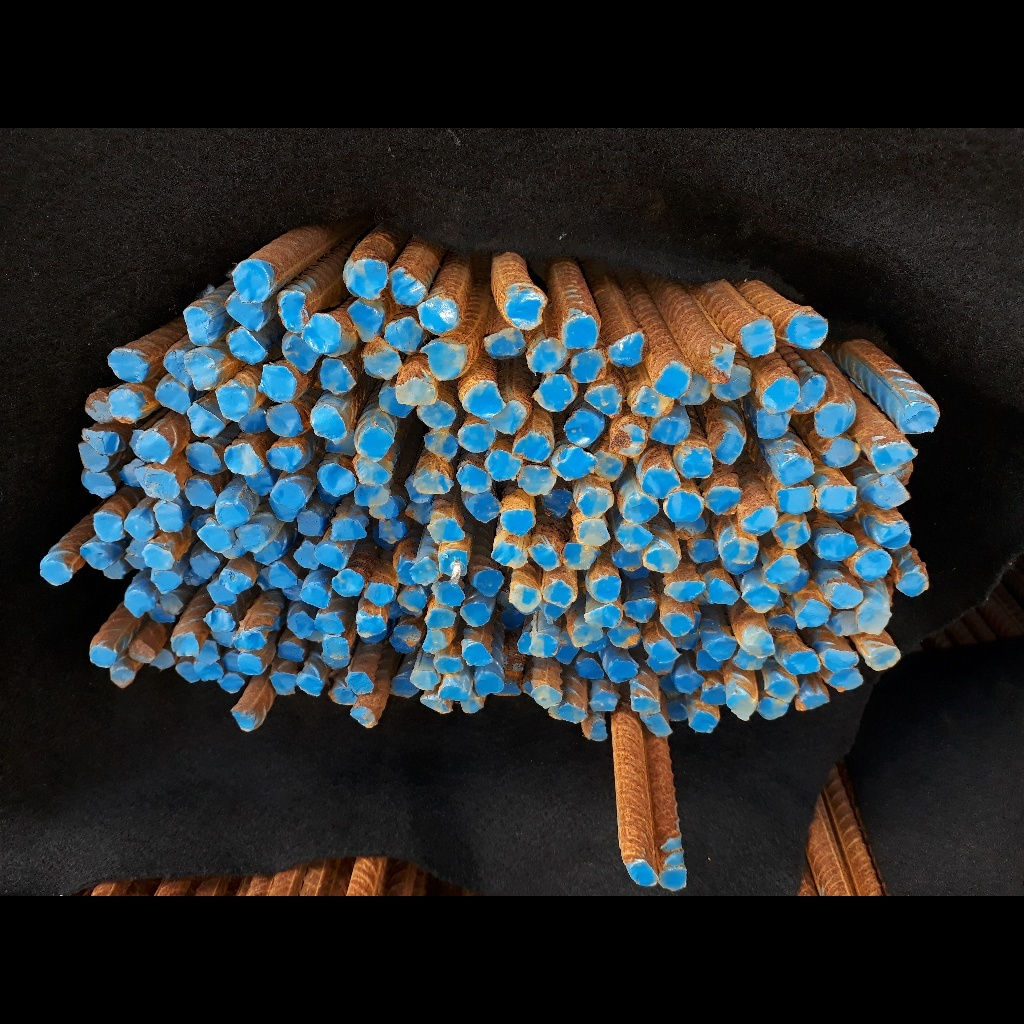dipstick: (425, 339, 464, 379), (135, 467, 179, 502), (348, 260, 387, 298), (788, 313, 828, 349), (107, 347, 147, 382), (759, 375, 796, 412), (873, 442, 915, 474), (715, 366, 752, 402), (306, 313, 339, 353), (534, 376, 574, 409), (227, 329, 267, 362), (742, 319, 777, 356), (186, 352, 220, 390), (234, 261, 267, 300), (224, 442, 263, 475), (419, 298, 456, 332), (509, 292, 543, 328), (188, 404, 224, 438), (312, 406, 346, 442), (874, 474, 910, 508), (676, 444, 713, 477), (348, 303, 380, 341), (712, 425, 742, 465), (572, 350, 607, 384), (184, 307, 216, 344), (665, 492, 704, 522), (529, 340, 564, 373), (774, 515, 809, 548), (385, 317, 421, 349), (855, 550, 891, 582), (396, 377, 434, 407), (261, 367, 294, 401), (320, 465, 356, 496), (899, 404, 937, 433), (484, 329, 523, 357), (656, 364, 690, 396), (567, 412, 601, 444), (563, 317, 598, 348), (520, 465, 555, 496), (465, 383, 501, 413), (185, 444, 221, 474), (556, 449, 593, 478), (705, 486, 742, 515), (320, 360, 353, 392), (284, 338, 318, 369), (587, 385, 622, 415), (817, 407, 852, 437), (824, 439, 860, 468), (777, 485, 814, 513), (265, 446, 306, 471), (269, 404, 302, 435), (360, 428, 394, 458), (139, 430, 168, 465), (644, 468, 680, 496), (458, 424, 495, 451), (615, 523, 652, 550), (78, 472, 116, 498), (780, 458, 814, 487), (220, 384, 247, 420), (578, 491, 614, 518), (280, 290, 303, 332), (419, 403, 456, 429), (109, 390, 140, 421), (367, 345, 398, 376), (391, 273, 423, 303), (613, 423, 645, 453), (184, 479, 216, 509), (742, 507, 775, 536), (818, 486, 856, 511), (516, 435, 551, 462), (155, 383, 187, 412), (627, 495, 659, 524), (356, 459, 393, 484), (83, 428, 120, 453), (625, 859, 658, 887), (228, 300, 262, 327), (323, 636, 350, 670), (859, 608, 893, 635), (460, 465, 491, 494), (584, 604, 623, 627), (706, 577, 738, 605), (216, 498, 249, 525), (766, 556, 799, 583), (800, 376, 824, 413), (817, 535, 854, 559), (467, 495, 501, 521), (502, 510, 536, 536), (564, 544, 599, 569), (153, 501, 182, 531), (93, 513, 123, 542), (426, 432, 457, 460), (610, 336, 642, 363), (743, 585, 775, 612), (589, 576, 622, 602), (634, 391, 668, 416), (273, 484, 298, 518), (84, 389, 108, 424), (487, 450, 517, 478), (644, 549, 679, 573), (415, 471, 453, 493), (198, 525, 230, 551), (39, 560, 71, 586), (652, 419, 688, 442), (499, 404, 524, 437), (315, 546, 348, 571), (757, 413, 790, 438), (492, 543, 526, 567), (828, 583, 862, 607), (666, 581, 703, 603), (78, 445, 107, 473), (511, 586, 541, 613), (545, 489, 572, 519), (529, 545, 560, 571), (624, 597, 655, 623), (331, 571, 363, 596), (658, 868, 690, 893), (709, 348, 733, 381), (165, 352, 189, 385), (722, 538, 756, 561), (413, 555, 439, 585), (474, 571, 505, 596), (579, 520, 610, 545), (661, 612, 692, 637), (542, 581, 577, 603), (827, 670, 862, 692), (797, 603, 829, 627), (439, 550, 467, 577), (897, 572, 927, 597), (871, 646, 901, 671), (81, 544, 112, 568), (355, 612, 386, 636), (879, 524, 910, 548), (820, 650, 859, 669), (302, 584, 328, 612), (431, 519, 464, 541), (330, 520, 366, 540), (237, 629, 268, 652), (433, 582, 464, 605), (787, 652, 818, 675), (607, 660, 639, 682), (748, 631, 774, 658), (355, 485, 390, 505), (398, 587, 427, 611), (609, 624, 639, 647), (757, 697, 788, 719), (146, 544, 173, 569), (288, 612, 313, 639), (465, 641, 492, 666), (270, 563, 298, 587), (365, 583, 393, 607), (641, 714, 673, 735), (728, 695, 756, 719), (190, 553, 219, 576), (238, 527, 267, 550), (690, 540, 719, 563), (315, 612, 345, 634), (595, 454, 622, 478), (294, 543, 317, 571), (530, 635, 558, 658), (652, 638, 680, 661), (765, 681, 797, 701), (222, 569, 251, 591), (576, 659, 605, 681), (689, 712, 719, 733), (683, 383, 709, 407), (124, 591, 151, 614), (171, 633, 198, 656), (612, 551, 643, 571), (208, 584, 236, 606), (206, 610, 234, 632), (461, 604, 489, 626), (705, 638, 734, 659), (831, 611, 856, 635), (126, 540, 144, 573), (278, 641, 305, 663), (423, 631, 450, 653), (797, 693, 830, 711), (768, 615, 795, 637), (378, 386, 397, 417), (630, 695, 661, 714), (152, 570, 180, 591), (533, 686, 561, 707), (89, 645, 114, 668), (124, 517, 150, 539), (476, 673, 503, 694), (591, 690, 618, 711), (677, 672, 704, 693), (130, 640, 154, 663), (231, 710, 255, 733), (272, 673, 296, 696), (426, 610, 455, 629), (242, 414, 267, 436), (297, 674, 322, 696), (245, 475, 272, 495), (393, 624, 420, 644), (434, 656, 463, 674), (412, 671, 438, 691), (120, 459, 139, 486), (347, 674, 374, 693), (572, 627, 602, 644), (381, 521, 405, 542), (220, 673, 244, 694), (298, 513, 319, 536), (239, 655, 262, 676), (110, 668, 134, 688), (696, 650, 720, 670), (665, 701, 687, 722), (254, 548, 281, 565), (328, 687, 355, 704), (351, 708, 375, 727), (561, 705, 586, 723), (701, 686, 726, 704), (407, 504, 430, 523), (367, 505, 398, 519), (201, 640, 218, 665), (196, 663, 221, 680), (176, 660, 196, 681), (424, 699, 452, 714), (557, 646, 578, 666), (542, 605, 568, 621), (781, 580, 807, 596), (162, 595, 182, 615), (221, 650, 238, 673), (735, 656, 767, 668), (212, 631, 235, 647), (441, 687, 467, 701), (591, 719, 607, 741), (398, 561, 412, 586), (722, 564, 753, 575), (461, 698, 484, 712), (648, 662, 674, 674), (282, 587, 302, 602), (518, 631, 530, 656), (104, 565, 123, 580), (392, 640, 412, 654), (586, 642, 611, 653), (505, 683, 520, 696), (163, 655, 174, 668)
